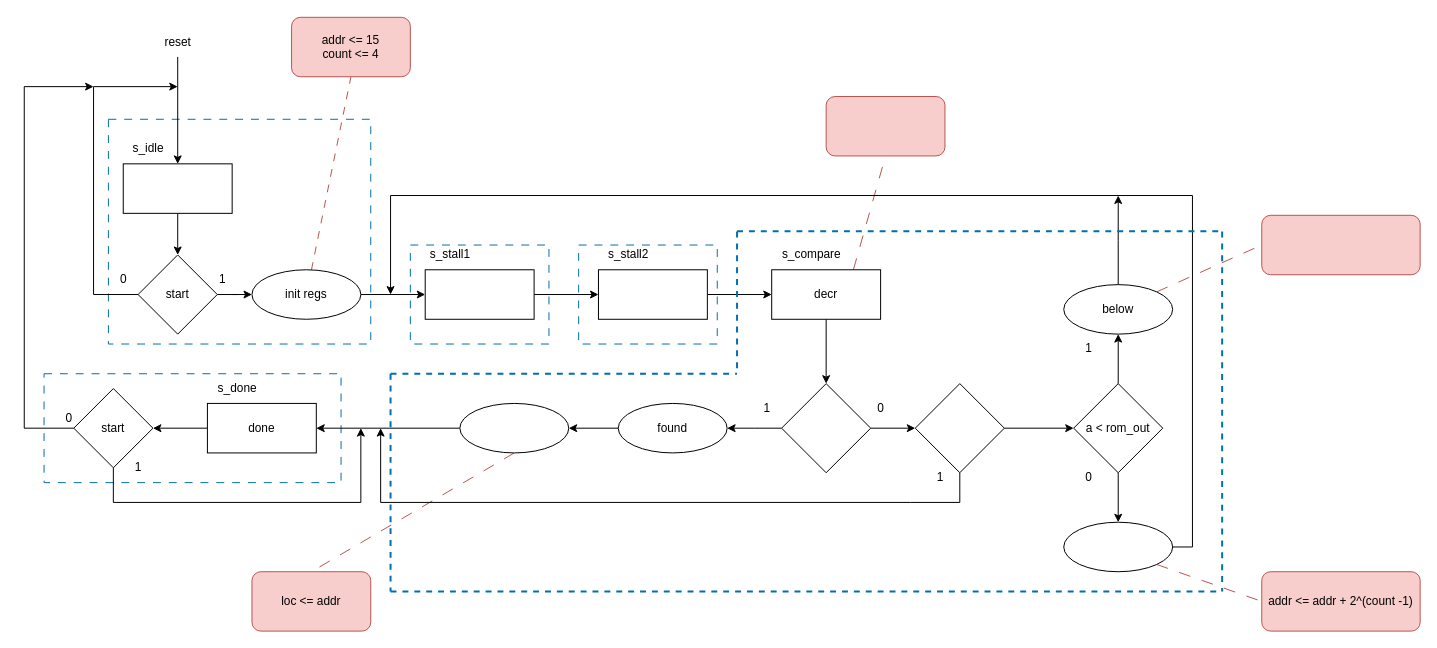
Image size: 1437x648. Some labels were removed from this diagram. The shapes that lost their labels are listed below. From the top down, each one's centre as x and y in pixels, then its label:
the point at 885,126: count <= count - 1
the point at 1340,244: addr <= addr - 2^(count -1)
the point at 514,427: loc
the point at 826,428: a == rom_out
the point at 959,428: p == 0
the point at 1118,546: above
